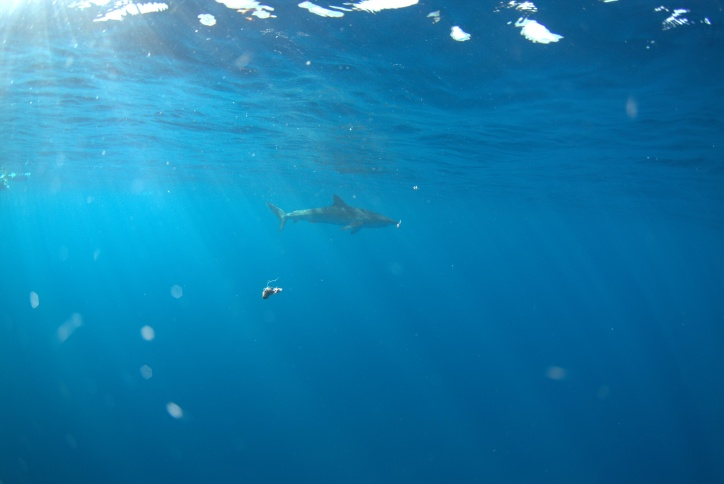Sedoso: (248, 189, 414, 249)
